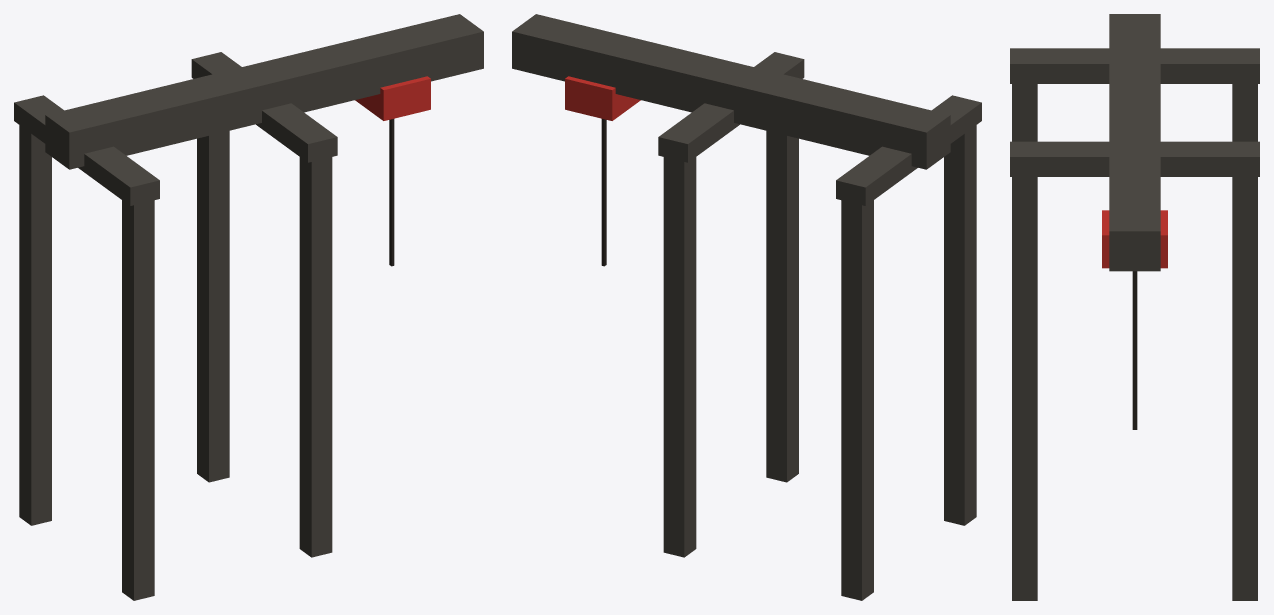
Rendered from gantry.glb.
3 views of the same model, side by side, from view 1: azimuth 30°, elevation 25°; view 2: azimuth 150°, elevation 25°; view 3: azimuth 270°, elevation 25° (orthographic). The views are drawn at different scales.
Parts seen in each view (by area): view 1: gantry; view 2: gantry; view 3: gantry.
Part boxes in pixels (x1,y1,x2,y2): gantry: (14,14,483,600); gantry: (512,14,981,600); gantry: (1010,14,1259,600).
Size of the model in its own units: 1.4 by 1.42 by 0.68.
